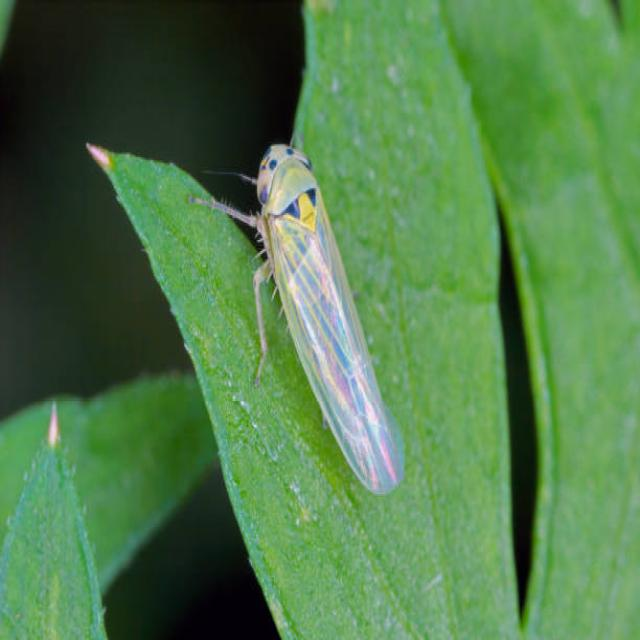Yechan: (218, 122, 413, 502)
